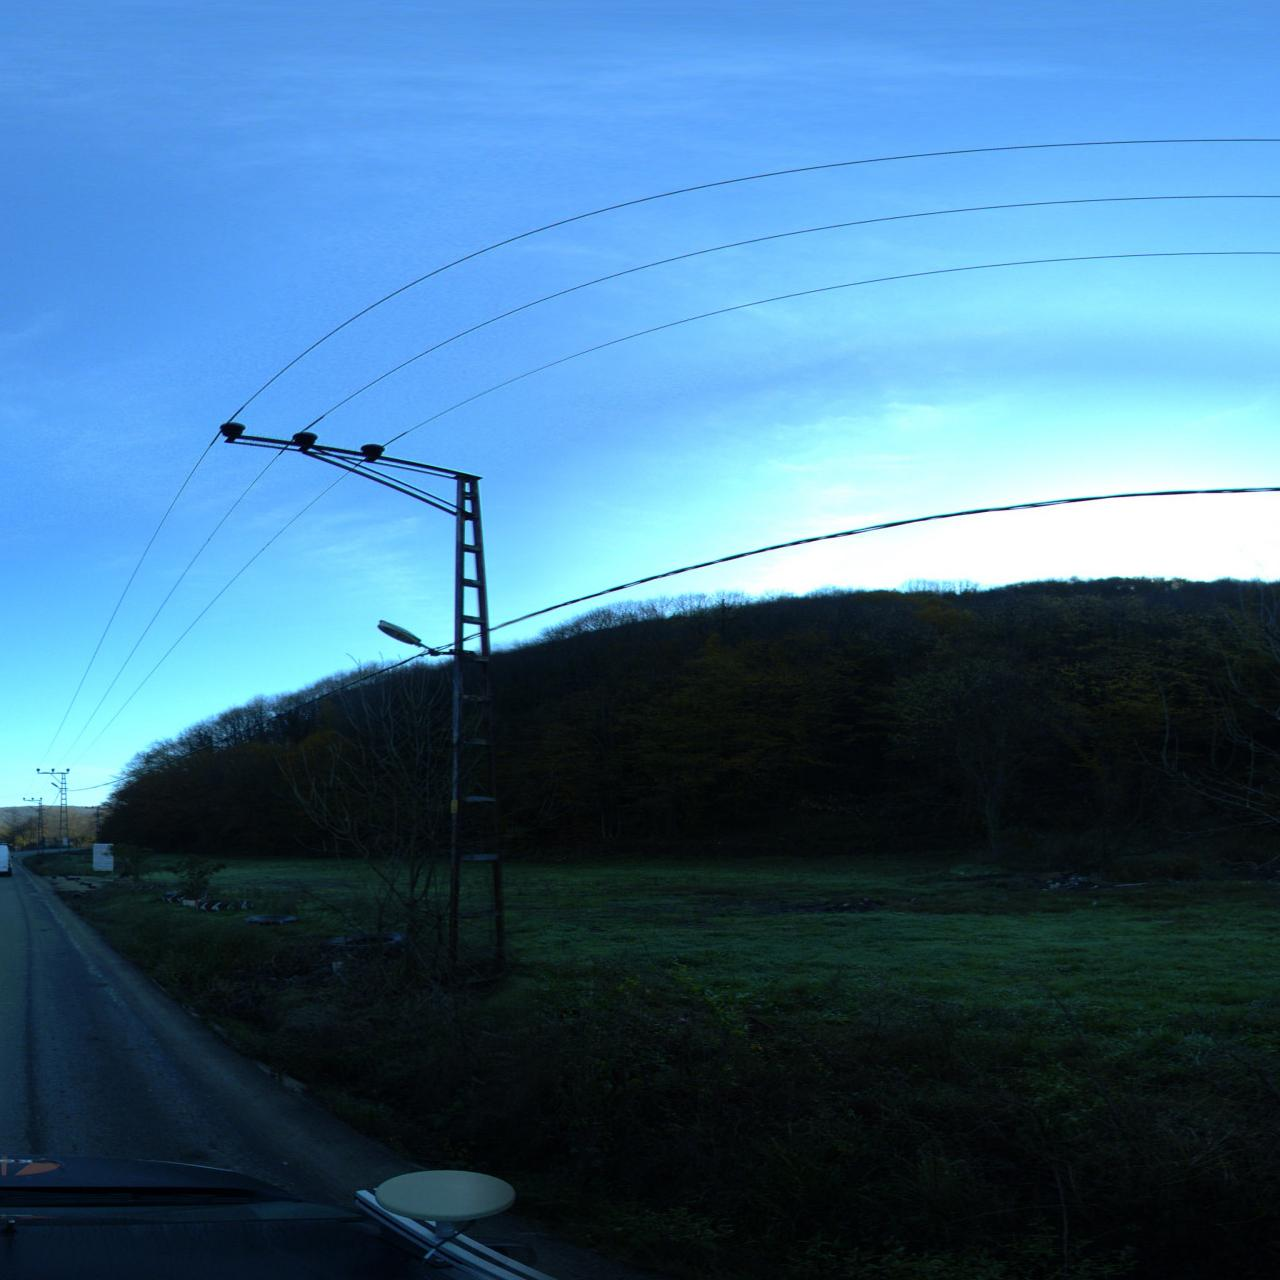Utility Pole Information Plate: (450, 799, 458, 813)
